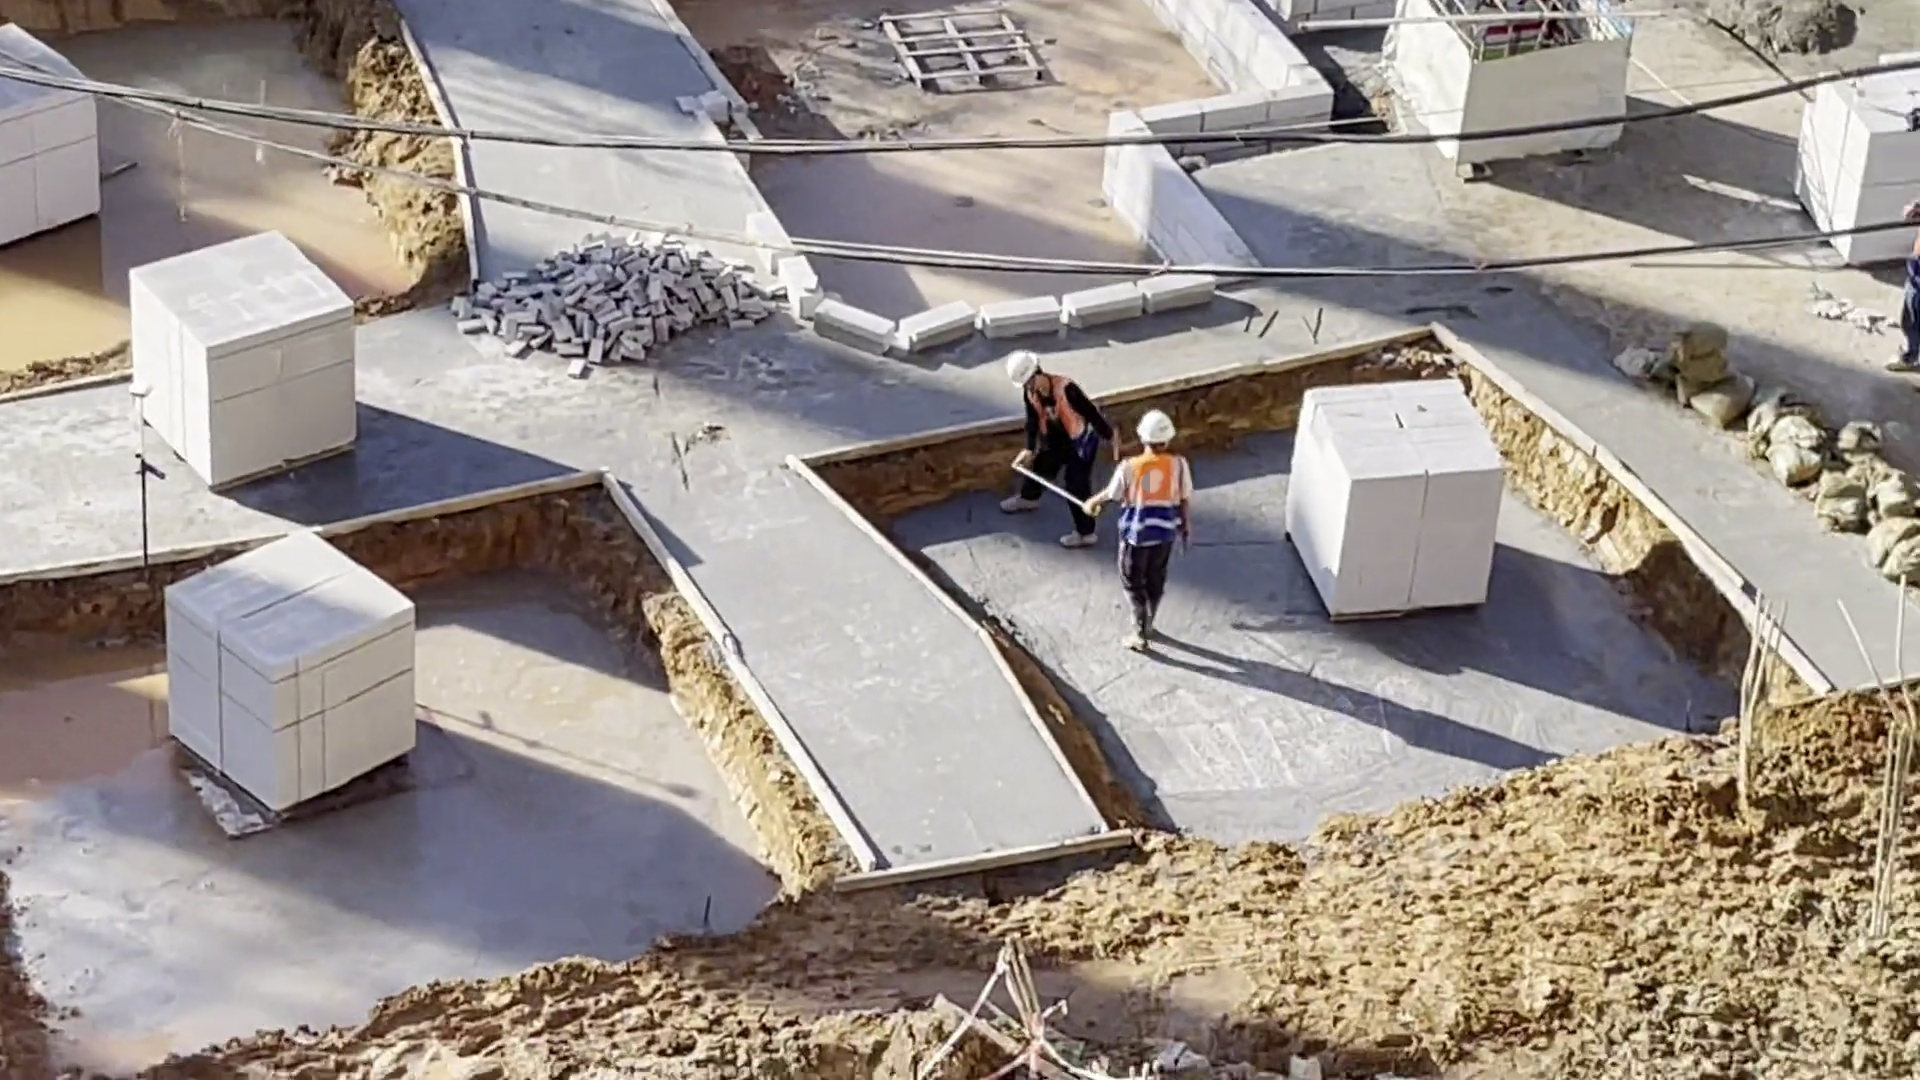brick: (153, 526, 423, 815), (126, 228, 360, 489), (1272, 374, 1506, 619), (4, 94, 106, 249), (1802, 93, 1920, 228)
helmet: (1000, 350, 1044, 389), (1134, 411, 1179, 450)
person: (1084, 406, 1195, 657), (984, 346, 1107, 552), (1893, 187, 1920, 396)
vest: (1114, 454, 1185, 550)
